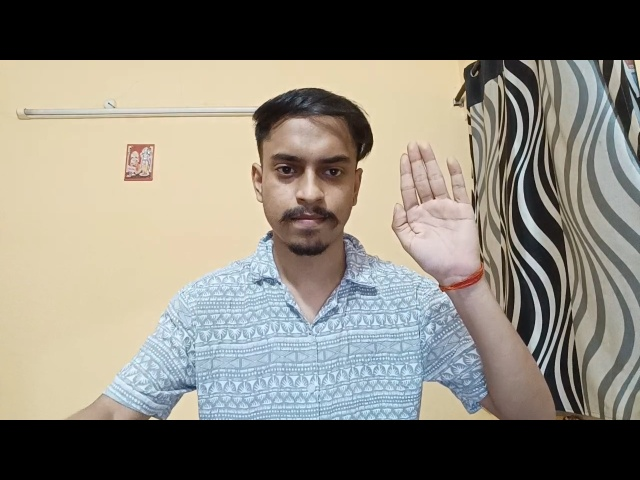Hello: (379, 144, 496, 298)
